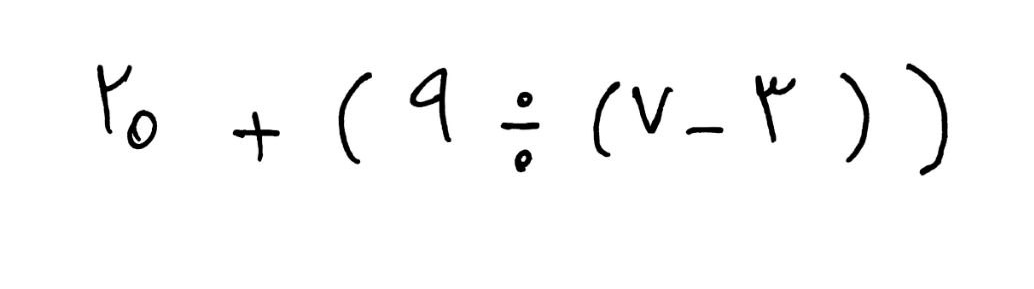character: (907, 63, 966, 193), (837, 67, 899, 175), (751, 68, 811, 160), (501, 89, 547, 183), (630, 83, 676, 162), (408, 67, 455, 143), (336, 71, 371, 165), (96, 61, 133, 136), (591, 79, 624, 157), (233, 109, 280, 161), (681, 125, 727, 154), (127, 110, 158, 152)
